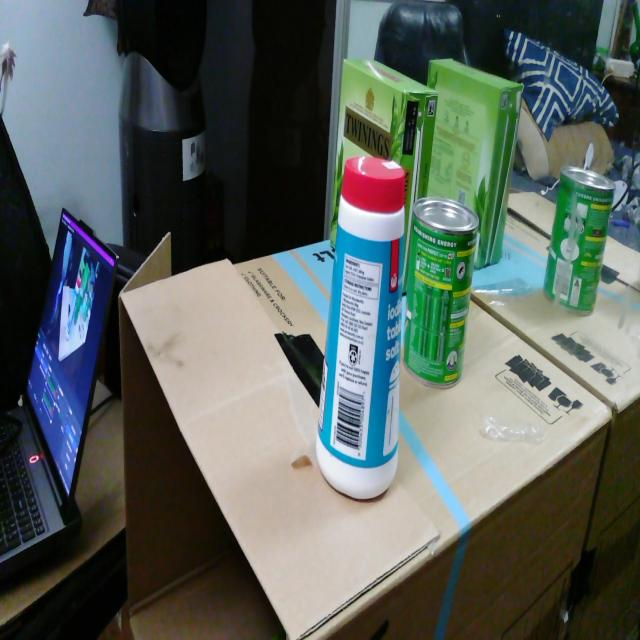nestle_milo_tin: (403, 197, 479, 388)
twinings_greentea_box: (330, 59, 438, 292)
woolworths_salt_bottle: (316, 156, 404, 499)
